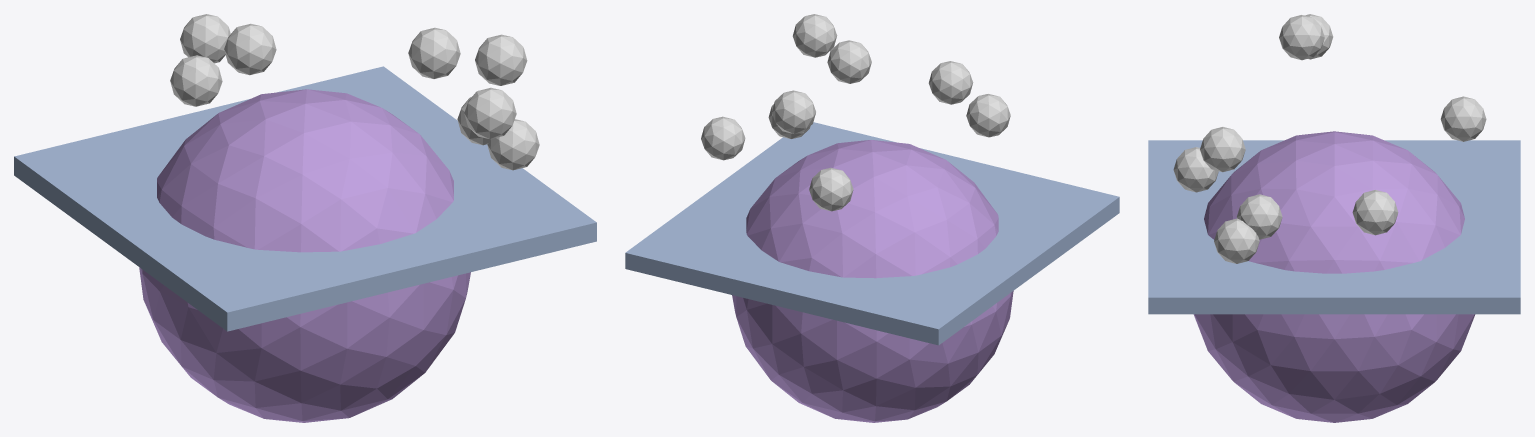
File: pet_t8.glb
3 renders of one model, left to right at view 1: azimuth 30°, elevation 25°; view 2: azimuth 150°, elevation 25°; view 3: azimuth 270°, elevation 25°, orthographic. The views are drawn at different scales.
Parts seen in each view (by area): view 1: geometry_0; view 2: geometry_0; view 3: geometry_0.
Part boxes in pixels (<box>): geometry_0: <box>14,14,596,422</box>; geometry_0: <box>625,14,1119,422</box>; geometry_0: <box>1148,14,1520,422</box>.
Bounding box in the file's own units: 0.812 × 0.8705 × 0.812.
